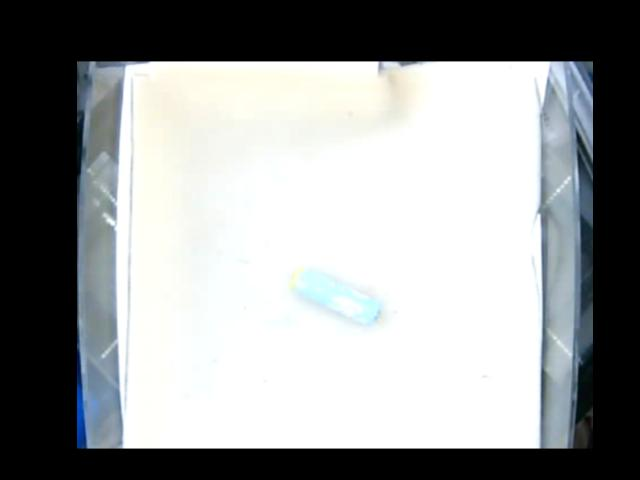Battery: (293, 267, 380, 325)
